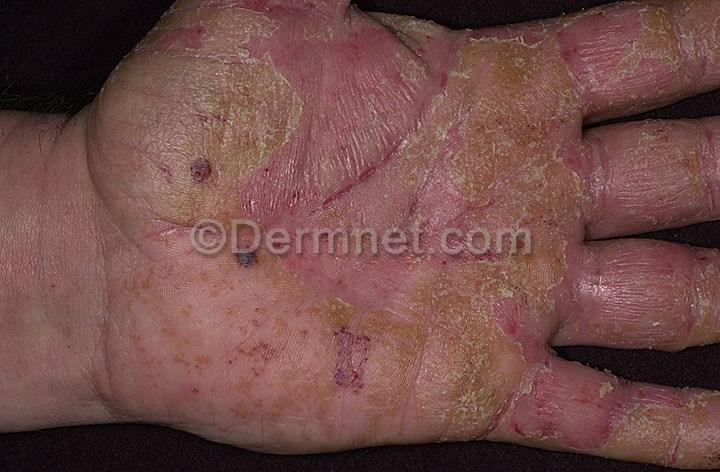Eczema: (362, 19, 563, 245), (119, 18, 351, 213), (416, 249, 570, 436), (566, 0, 720, 109), (578, 128, 720, 226), (593, 374, 720, 472), (580, 255, 720, 336), (323, 312, 410, 416), (206, 245, 297, 299)
